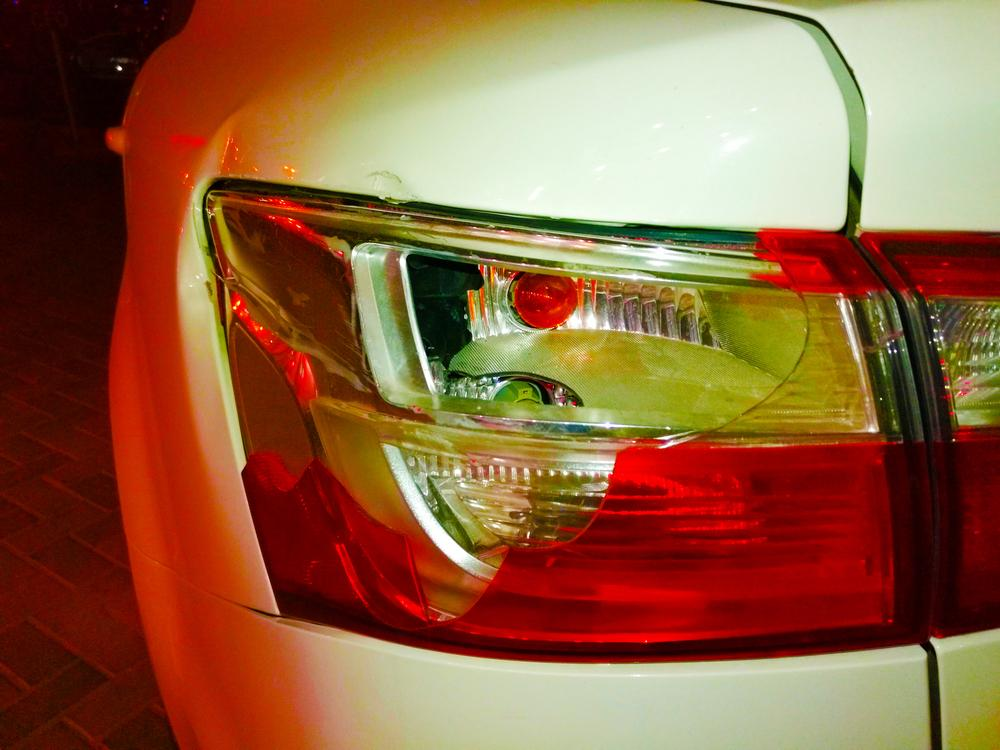lamp broken: (202, 183, 934, 664)
